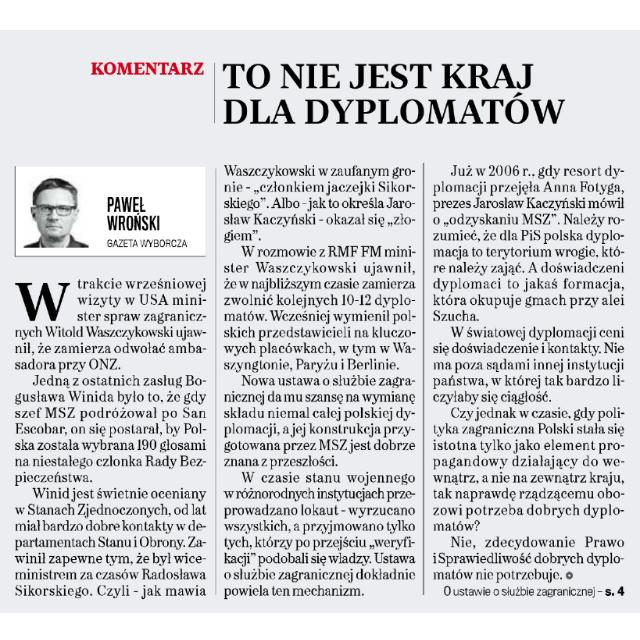author: (97, 194, 167, 236)
body: (218, 162, 418, 600), (428, 162, 630, 584), (8, 272, 210, 604)
title: (84, 52, 568, 134)
